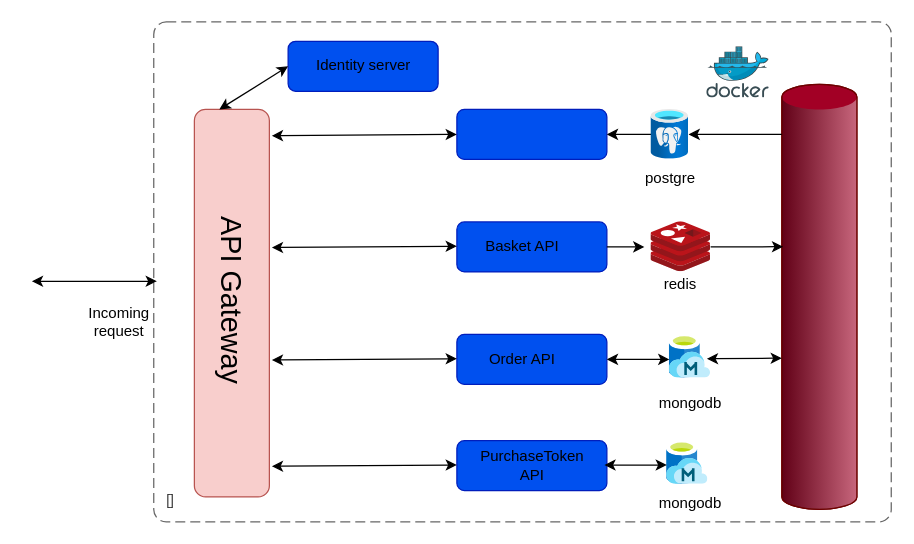
Some shapes in this 914 by 544 pixel diagram are drawn without their labels. Here are the shapes that lost their labels. From the top down, the box of each, then its label:
(456, 108, 607, 159): BookCatalog API
(781, 83, 857, 509): RabbitMQ
